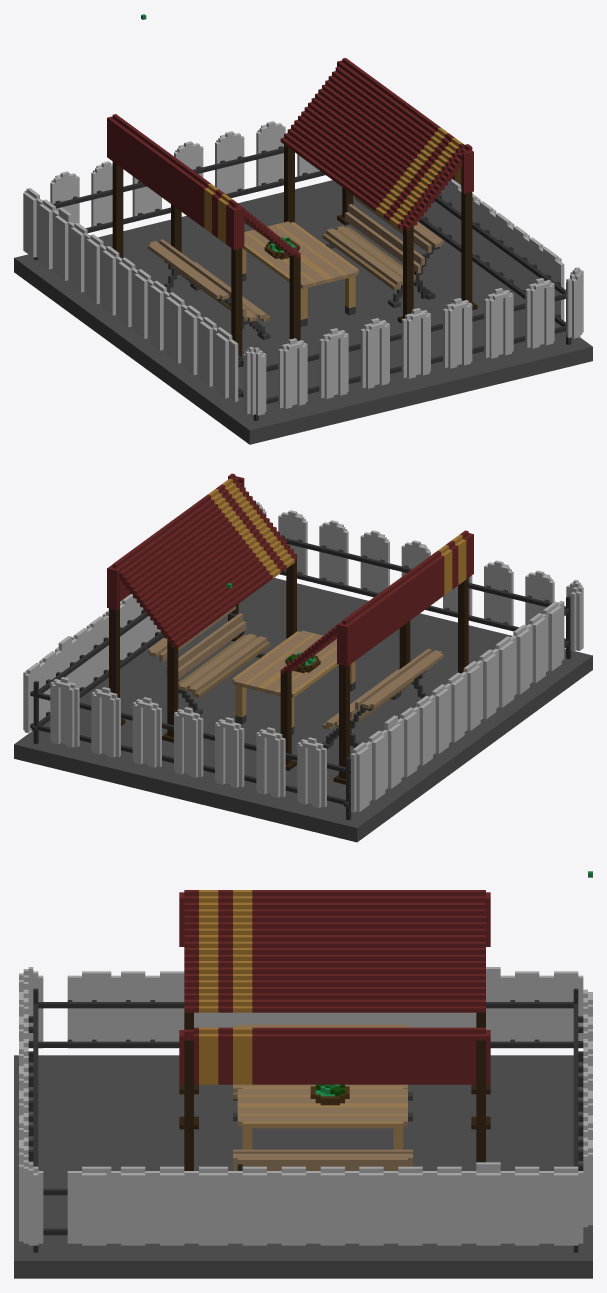
File: ylica goroda-1.obj
3 renders of one model, top to bottom at view 1: azimuth 30°, elevation 25°; view 2: azimuth 150°, elevation 25°; view 3: azimuth 270°, elevation 25°, orthographic. The views are drawn at different scales.
Size of the model in its own units: 10 by 6.3 by 11.9.
1 material, 1 textured.
